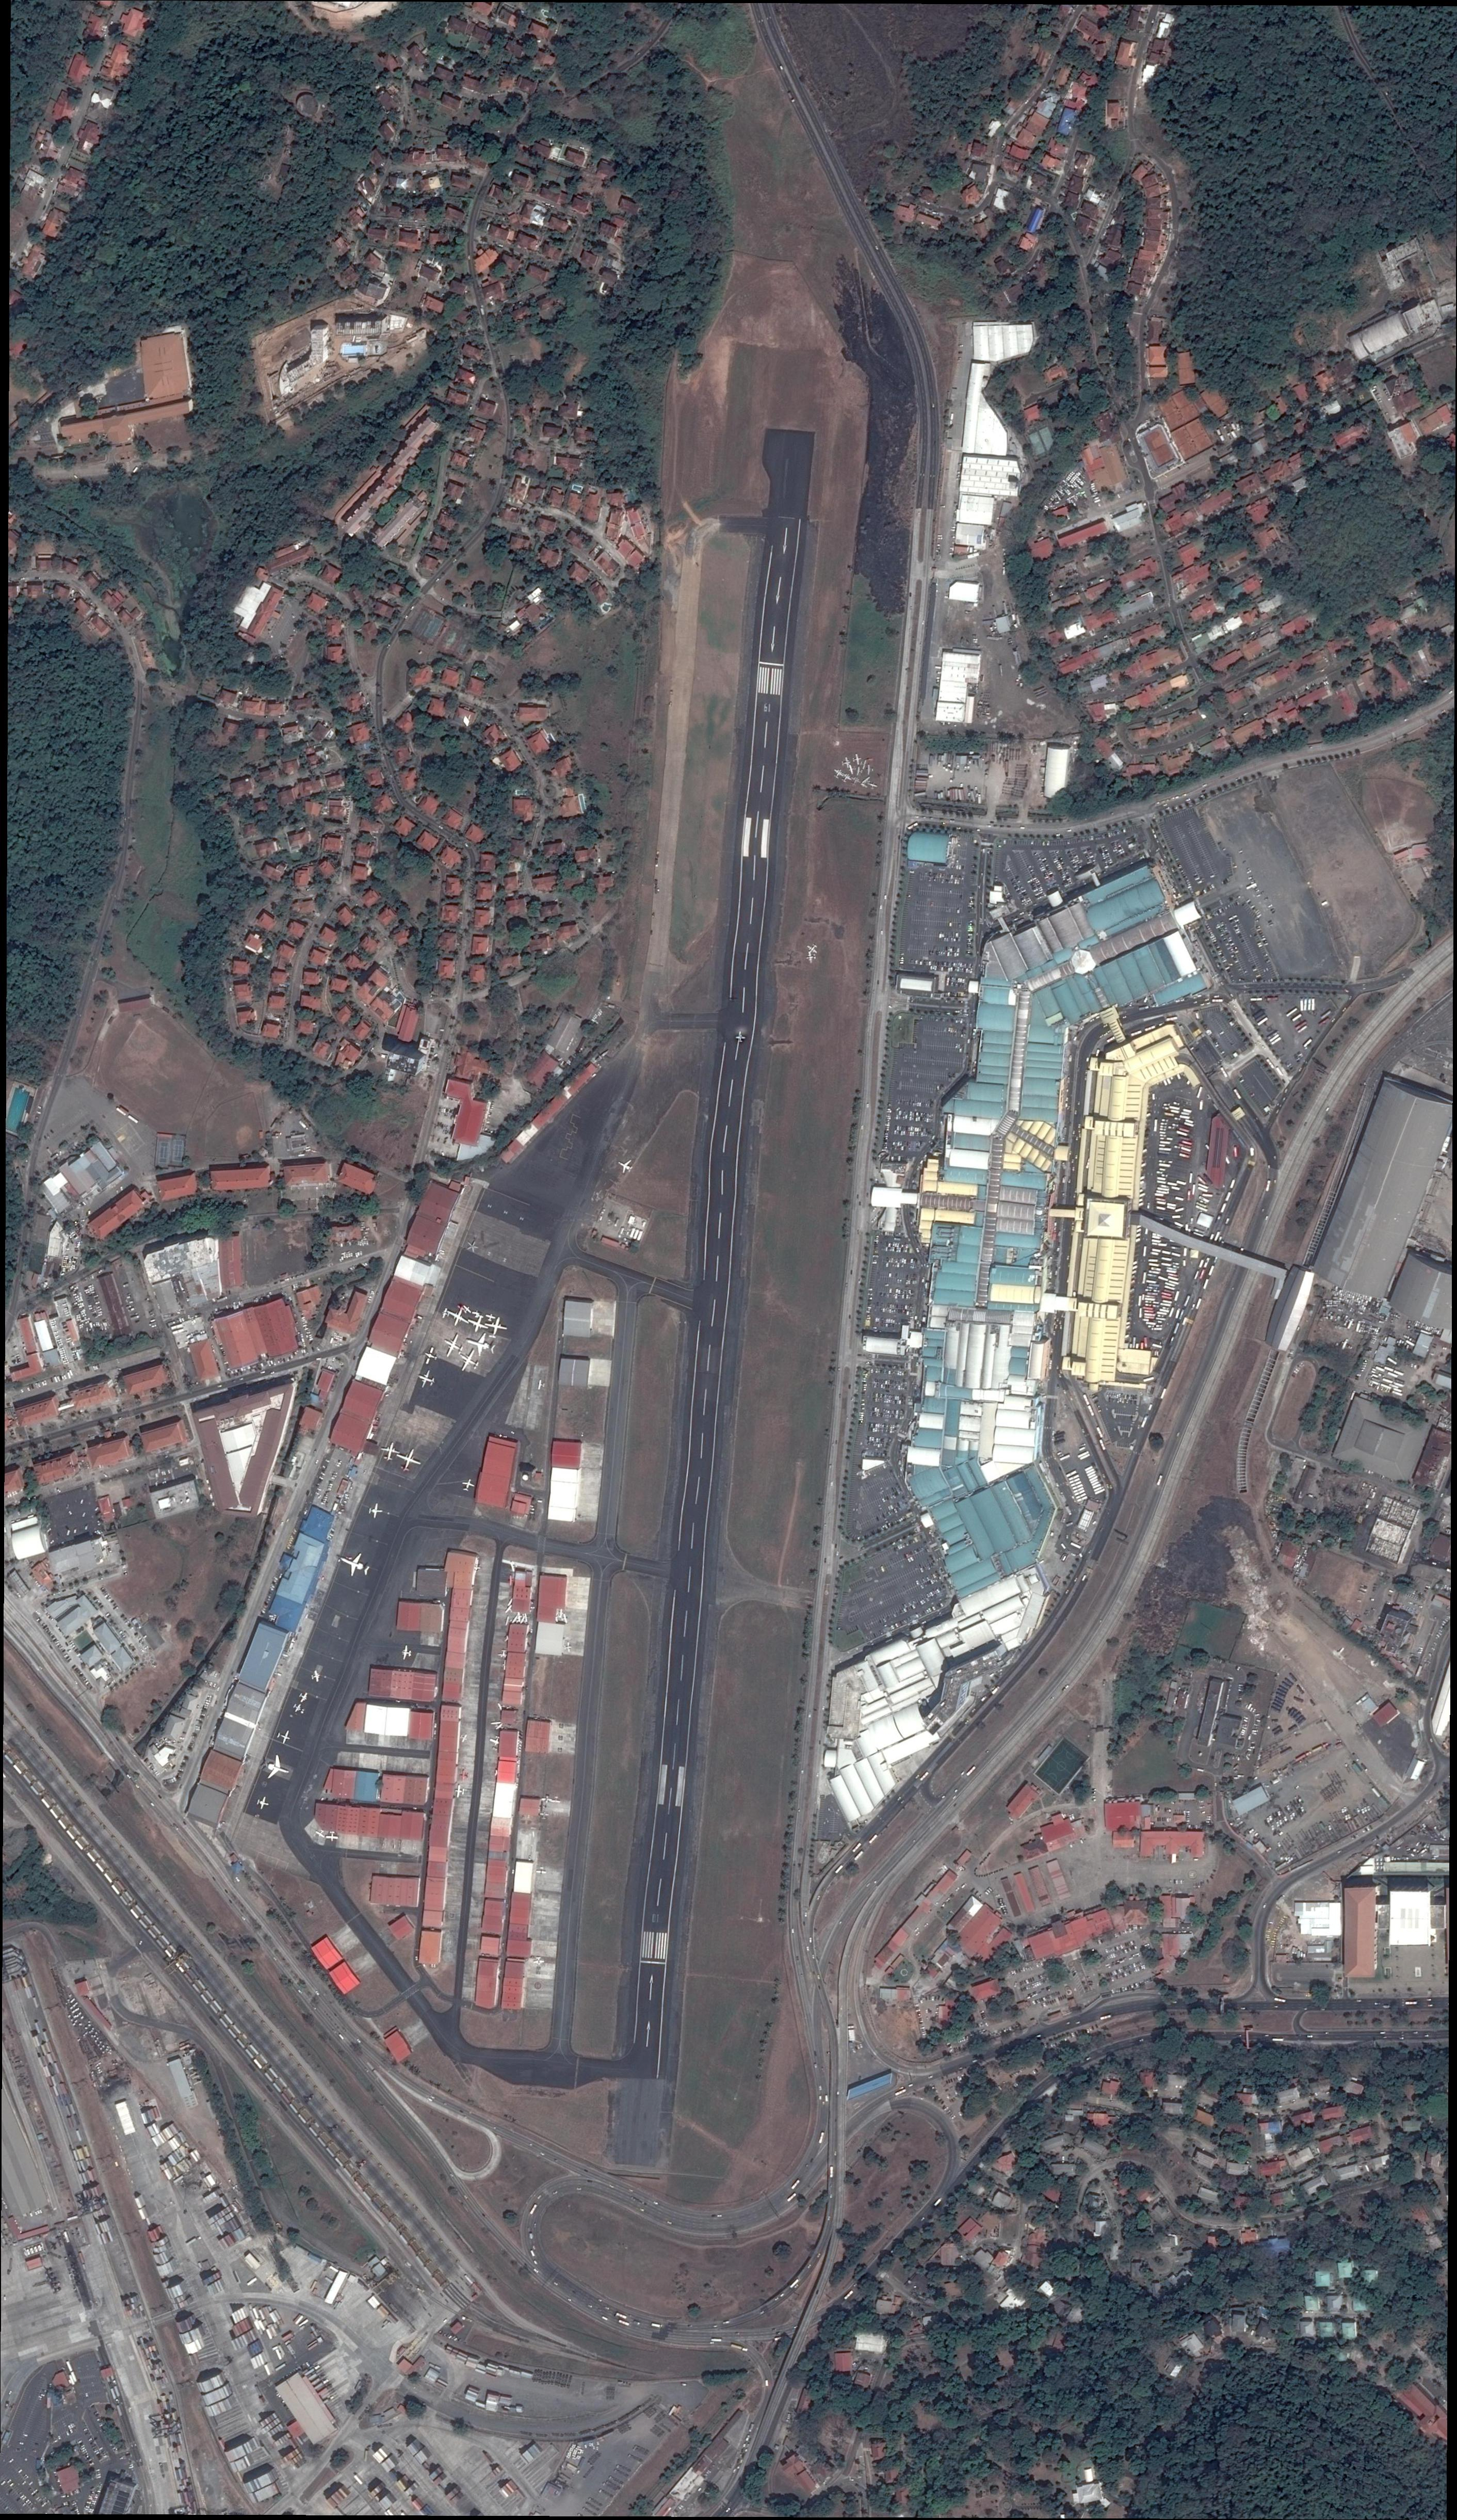plane: (391, 1443, 427, 1479), (336, 1545, 374, 1580), (463, 1329, 500, 1361), (262, 1751, 296, 1786), (454, 1344, 486, 1377), (439, 1329, 468, 1362), (444, 1299, 474, 1330), (413, 1366, 441, 1392), (483, 1314, 510, 1341), (466, 1311, 493, 1335), (420, 1341, 442, 1369), (612, 1154, 637, 1176), (379, 1441, 401, 1464), (273, 1724, 295, 1747), (367, 1502, 386, 1521), (254, 1794, 271, 1813), (803, 940, 823, 956), (488, 1732, 506, 1748), (312, 1825, 329, 1841), (399, 1644, 413, 1662), (839, 756, 854, 773), (457, 1730, 473, 1746), (461, 1477, 477, 1493), (296, 1690, 311, 1706), (452, 1784, 467, 1800), (561, 1640, 575, 1655), (851, 751, 863, 768), (460, 1302, 474, 1316), (504, 1602, 517, 1617), (310, 1668, 322, 1684), (440, 1305, 452, 1320), (325, 1829, 340, 1842), (507, 1560, 520, 1574), (805, 949, 817, 964), (291, 1701, 304, 1714), (841, 771, 853, 785), (833, 767, 846, 780), (503, 1614, 513, 1629), (536, 1866, 549, 1876), (559, 1613, 570, 1626), (851, 776, 862, 789), (497, 1648, 510, 1659), (537, 1377, 545, 1391), (541, 1794, 553, 1804), (532, 1956, 545, 1965), (550, 1796, 562, 1805), (735, 1034, 747, 1043), (539, 1811, 550, 1820), (862, 776, 872, 785), (557, 1608, 565, 1618), (868, 781, 879, 790), (856, 764, 864, 776), (866, 764, 873, 775)
